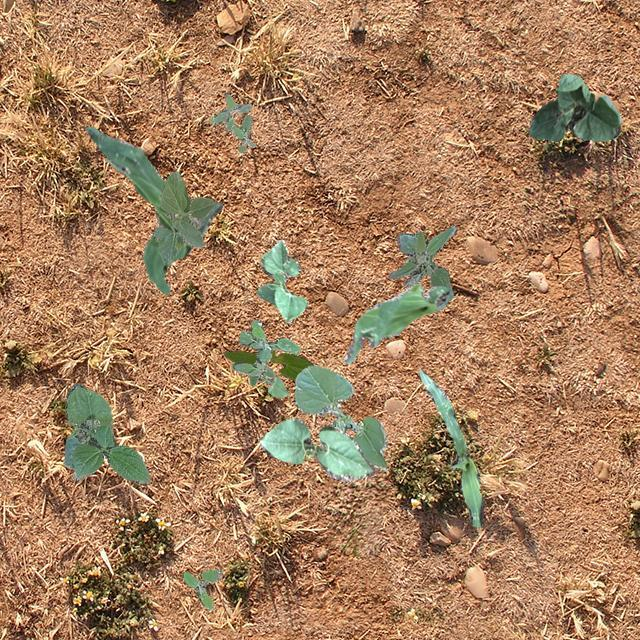crop: (82, 125, 220, 294), (418, 368, 483, 526), (294, 364, 386, 470), (344, 282, 452, 362), (64, 382, 150, 482), (258, 416, 374, 481), (528, 72, 620, 140), (152, 170, 214, 266), (255, 238, 308, 322), (222, 348, 312, 378), (248, 374, 288, 396)
weed: (388, 224, 456, 290), (230, 318, 300, 378), (208, 92, 254, 152), (182, 568, 222, 608)
